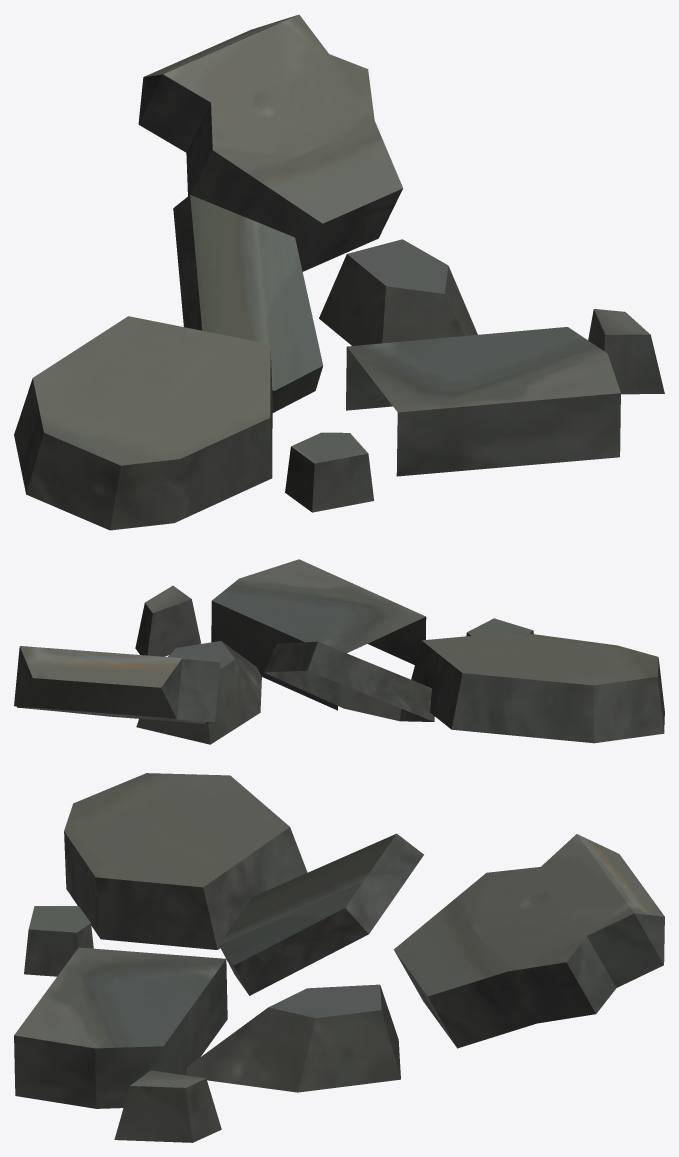
File: sc_dungeon_moshenta_zhuankuai_001_c.FBX
3 renders of one model, top to bottom at view 1: azimuth 30°, elevation 25°; view 2: azimuth 150°, elevation 25°; view 3: azimuth 270°, elevation 25°, orthographic. The views are drawn at different scales.
Parts seen in each view (by area): view 1: sc_dungeon_moshenta_zhuankuai_001_c; view 2: sc_dungeon_moshenta_zhuankuai_001_c; view 3: sc_dungeon_moshenta_zhuankuai_001_c.
Part boxes in pixels (x1,y1,x2,y2): sc_dungeon_moshenta_zhuankuai_001_c: (14,14,664,530); sc_dungeon_moshenta_zhuankuai_001_c: (14,559,664,744); sc_dungeon_moshenta_zhuankuai_001_c: (14,773,664,1142).
Size of the model in its own units: 1.82 by 1.75 by 0.5649.
1 material, 1 textured.
